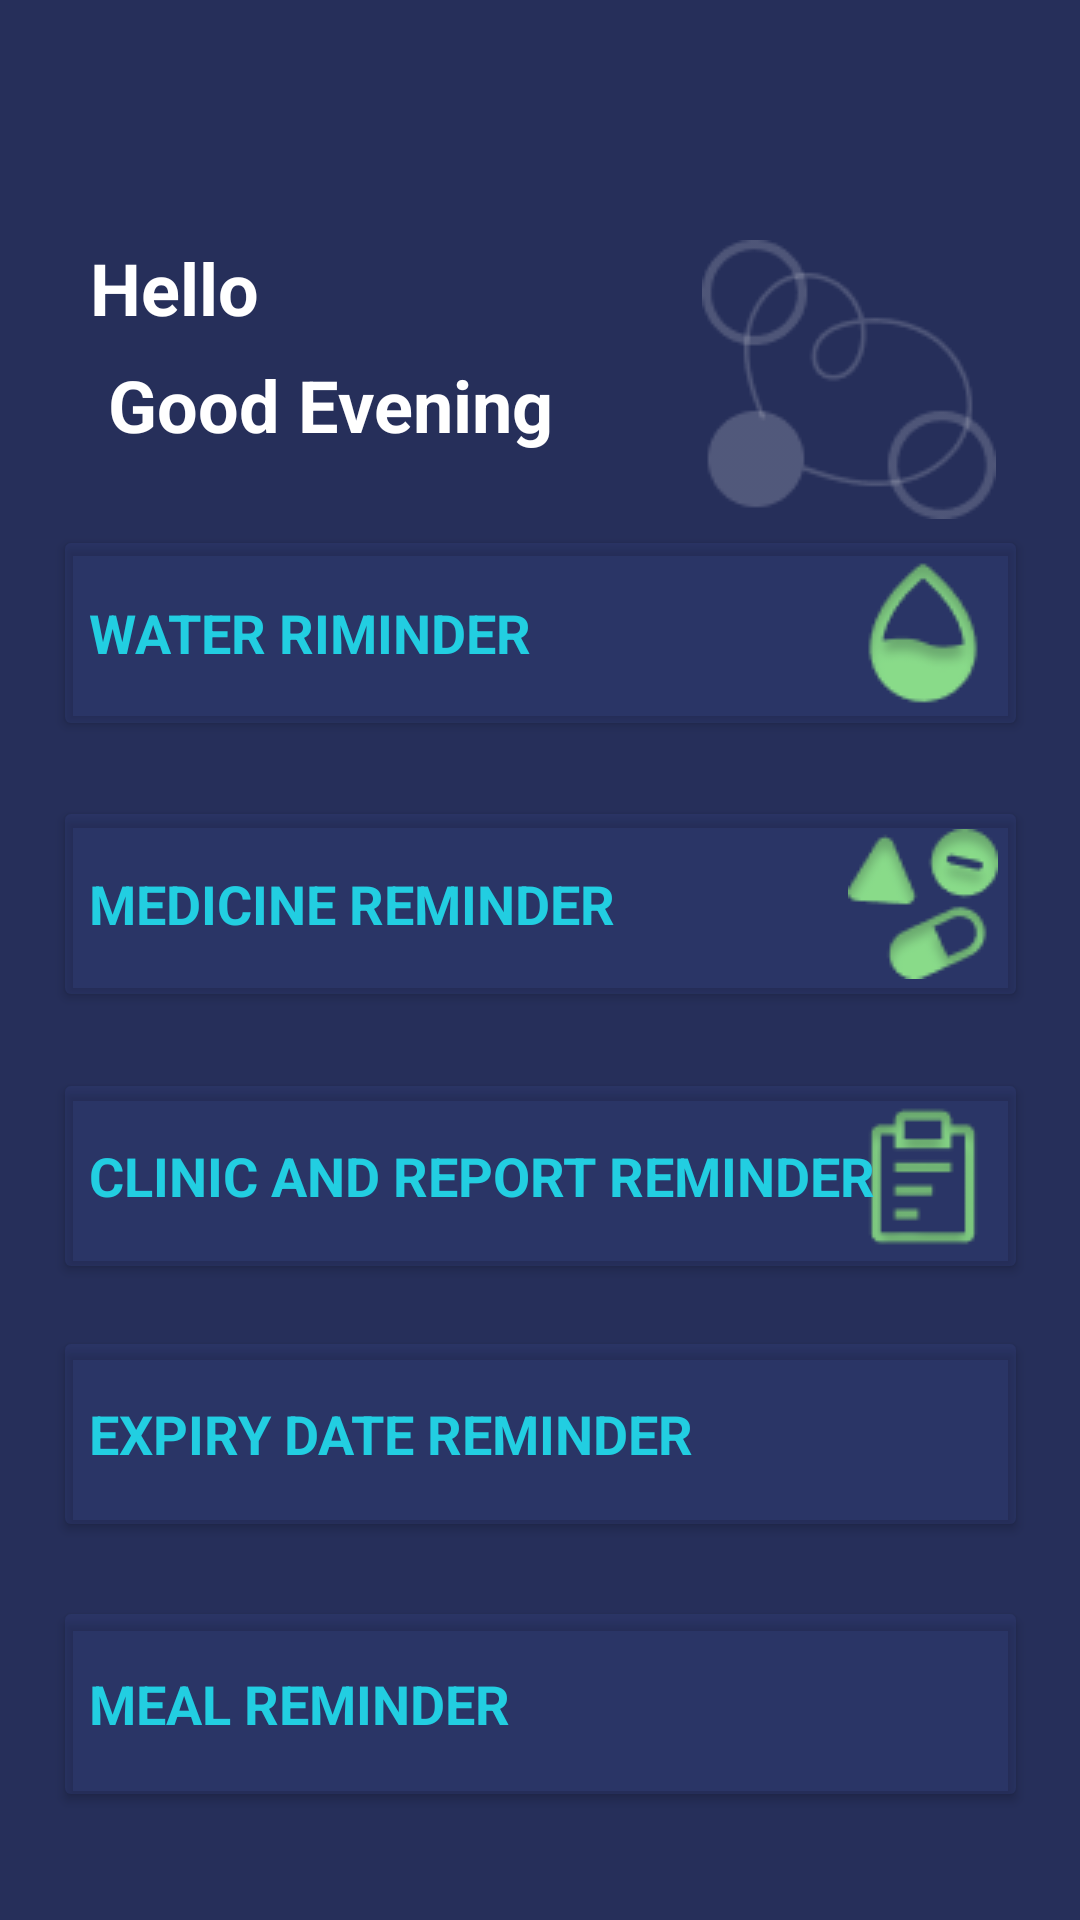

Icon bounding boxes for this 1080×1920 phone screenshot, format [x1, y1, x2, y2]:
carbon report: [848, 1109, 975, 1244]
park water level: [868, 563, 978, 703]
